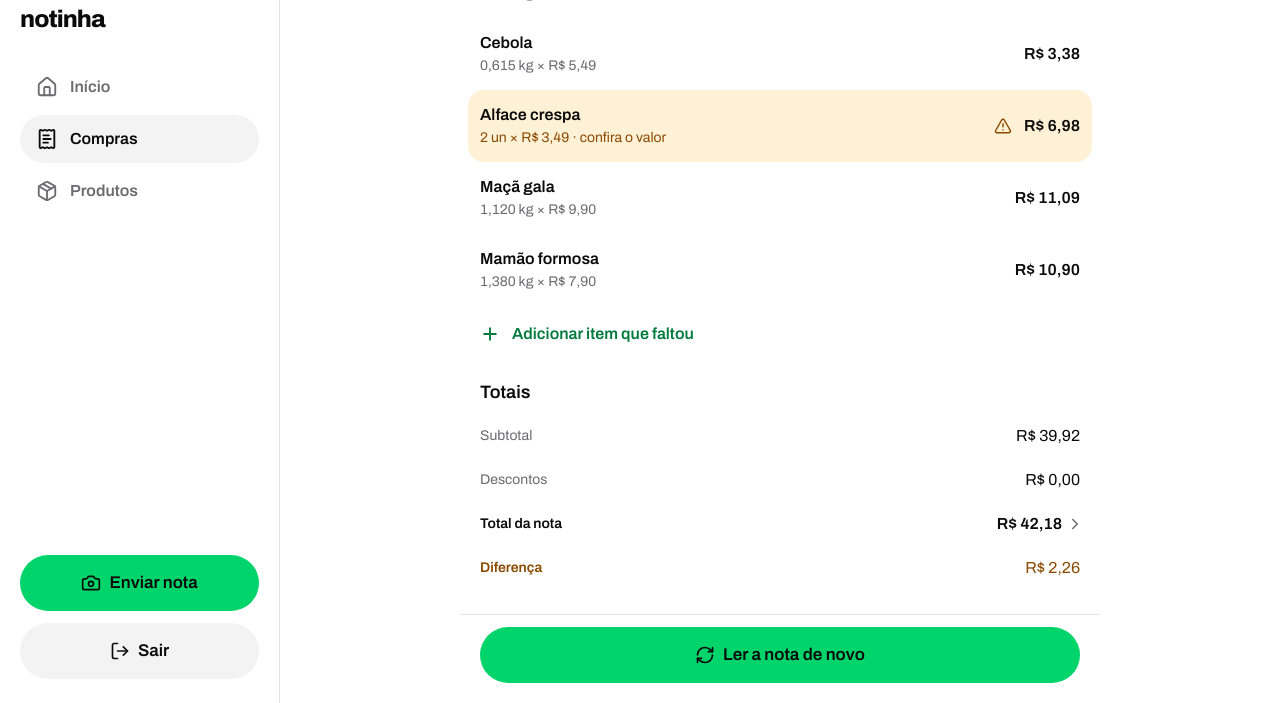
Scenario: correcting the receipt total › tapping the total opens it; "Usar a soma" fills in the items sum and saves
The width and height of the screenshot is (1280, 703).
(page scrolled)
Click the link named "Corrigir total da nota": click(1038, 524) [997,513,1080,535]
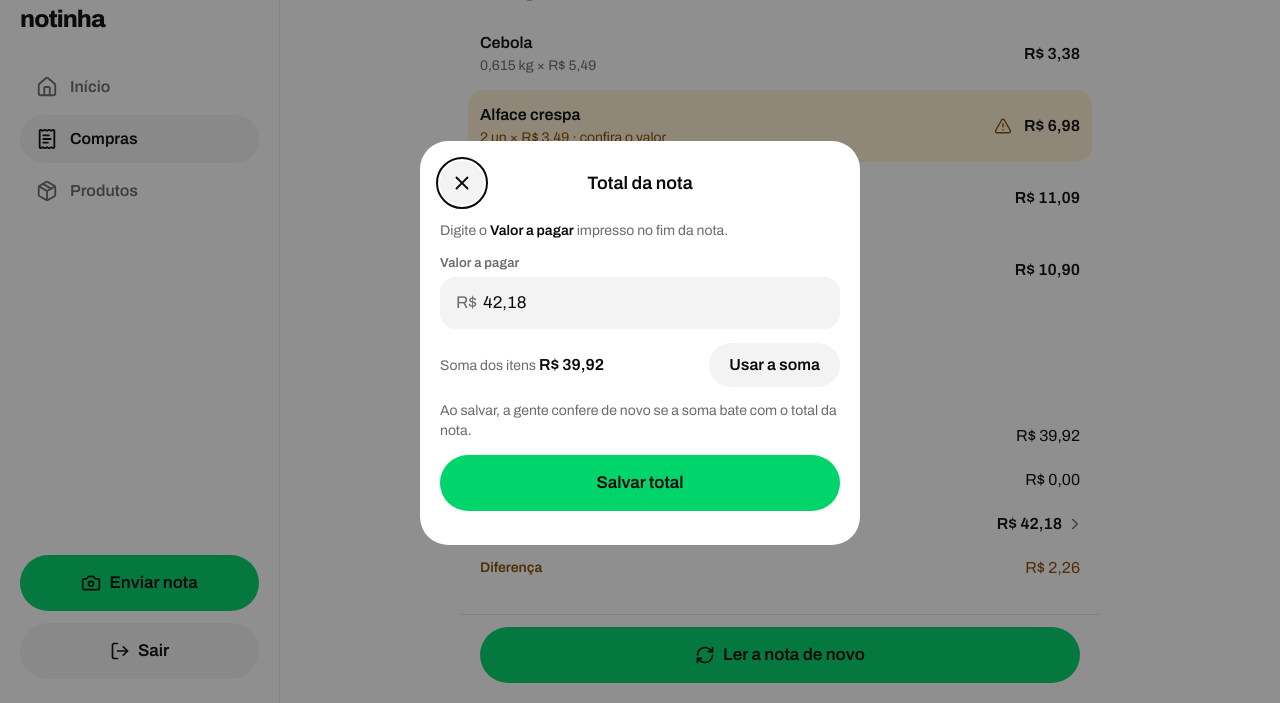
expect the dialog "Total da nota" is shown: met, box [420,141,860,545]
Click the button "Usar a soma": click(775, 365) [709,343,840,387]
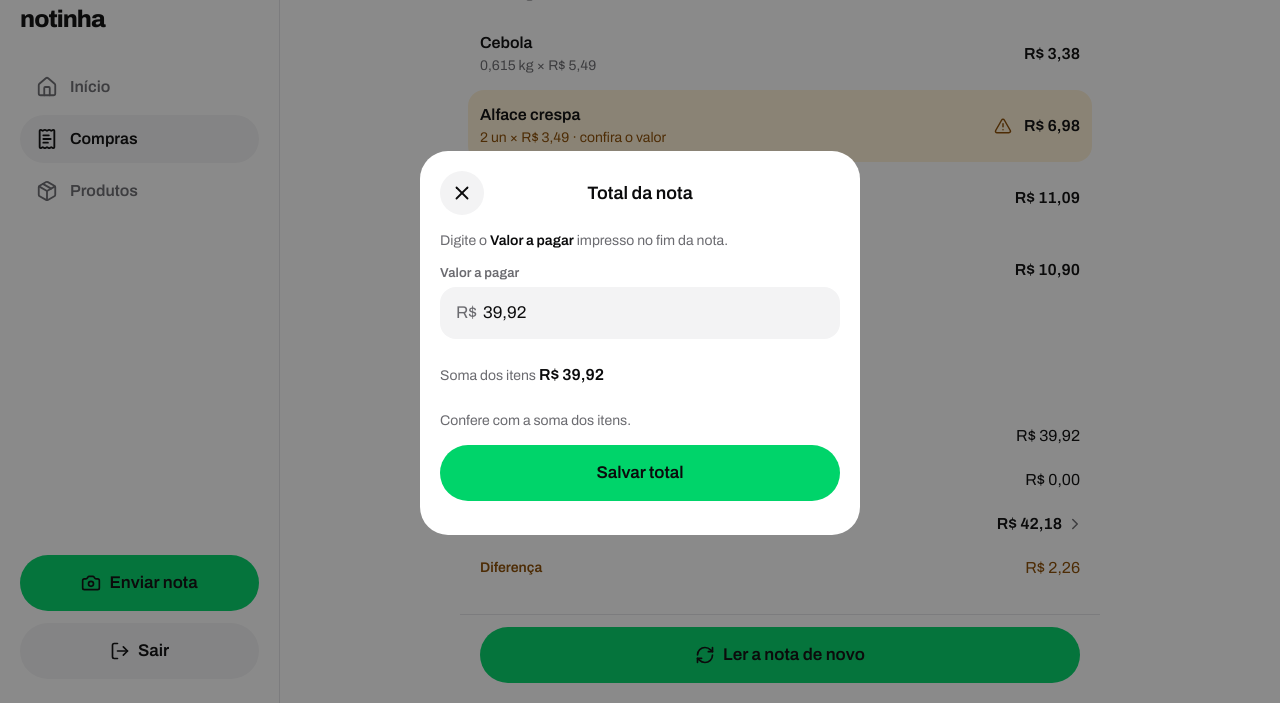
expect the text "Confere com a soma dos itens." is shown: met, box [440,413,631,428]
Click the button "Salvar total": click(640, 473) [440,445,840,501]
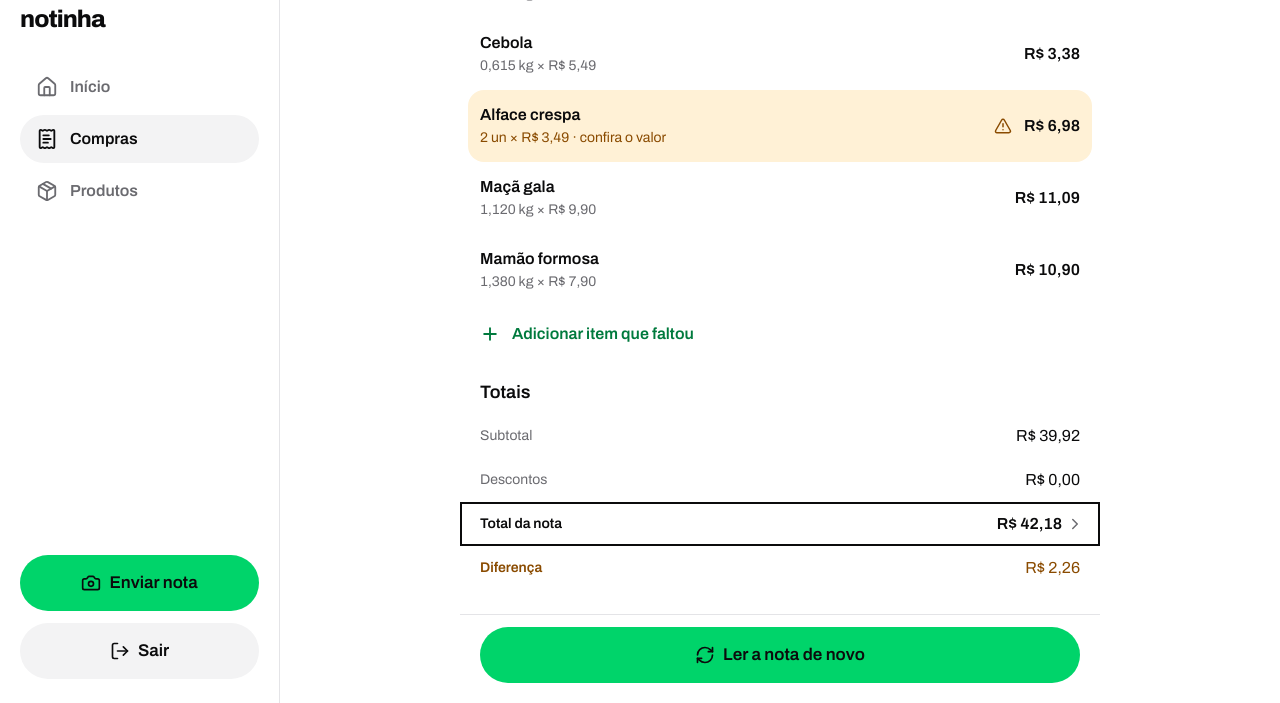
expect the dialog is gone: met
